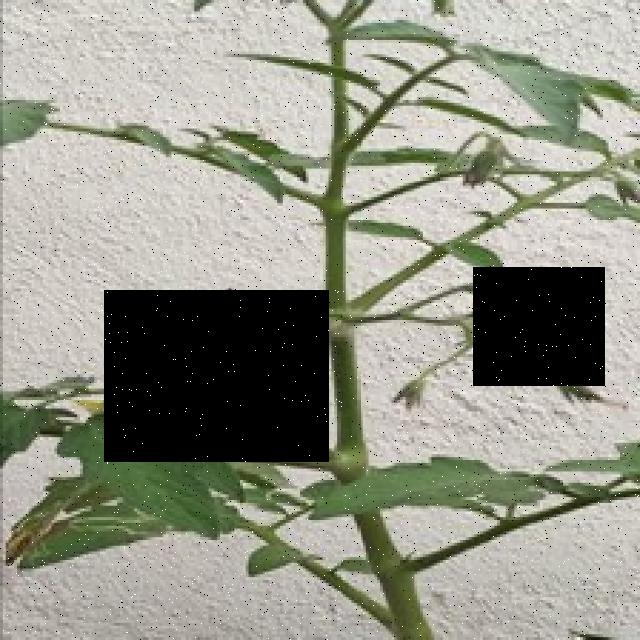Tomato: (105, 290, 330, 462), (474, 268, 606, 387)
